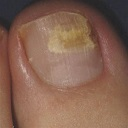Nail Fungal Infection: (42, 8, 100, 57)
